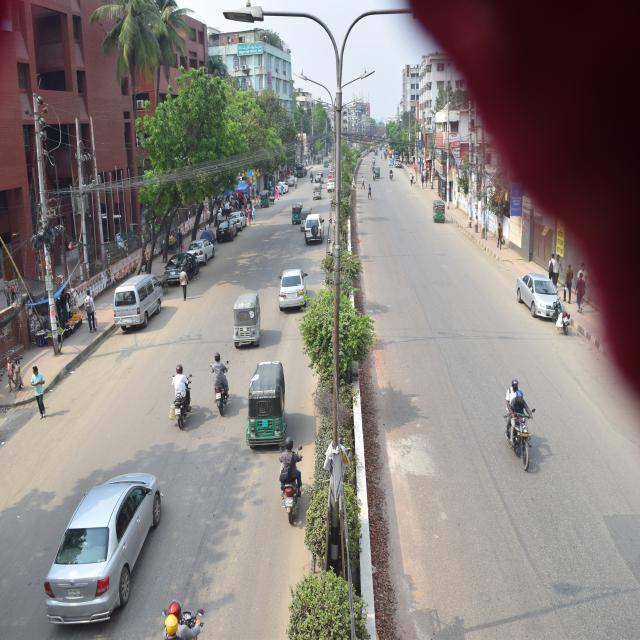car: (40, 466, 156, 604), (518, 269, 562, 317), (281, 270, 311, 327), (306, 216, 331, 250), (168, 258, 191, 287), (189, 240, 213, 263), (218, 212, 240, 235), (284, 158, 298, 189), (232, 197, 246, 226), (274, 175, 288, 194), (328, 182, 338, 189)
microbus: (114, 273, 170, 328)
motorbike: (277, 435, 315, 537), (209, 354, 240, 415), (170, 365, 198, 422), (388, 168, 396, 184)
